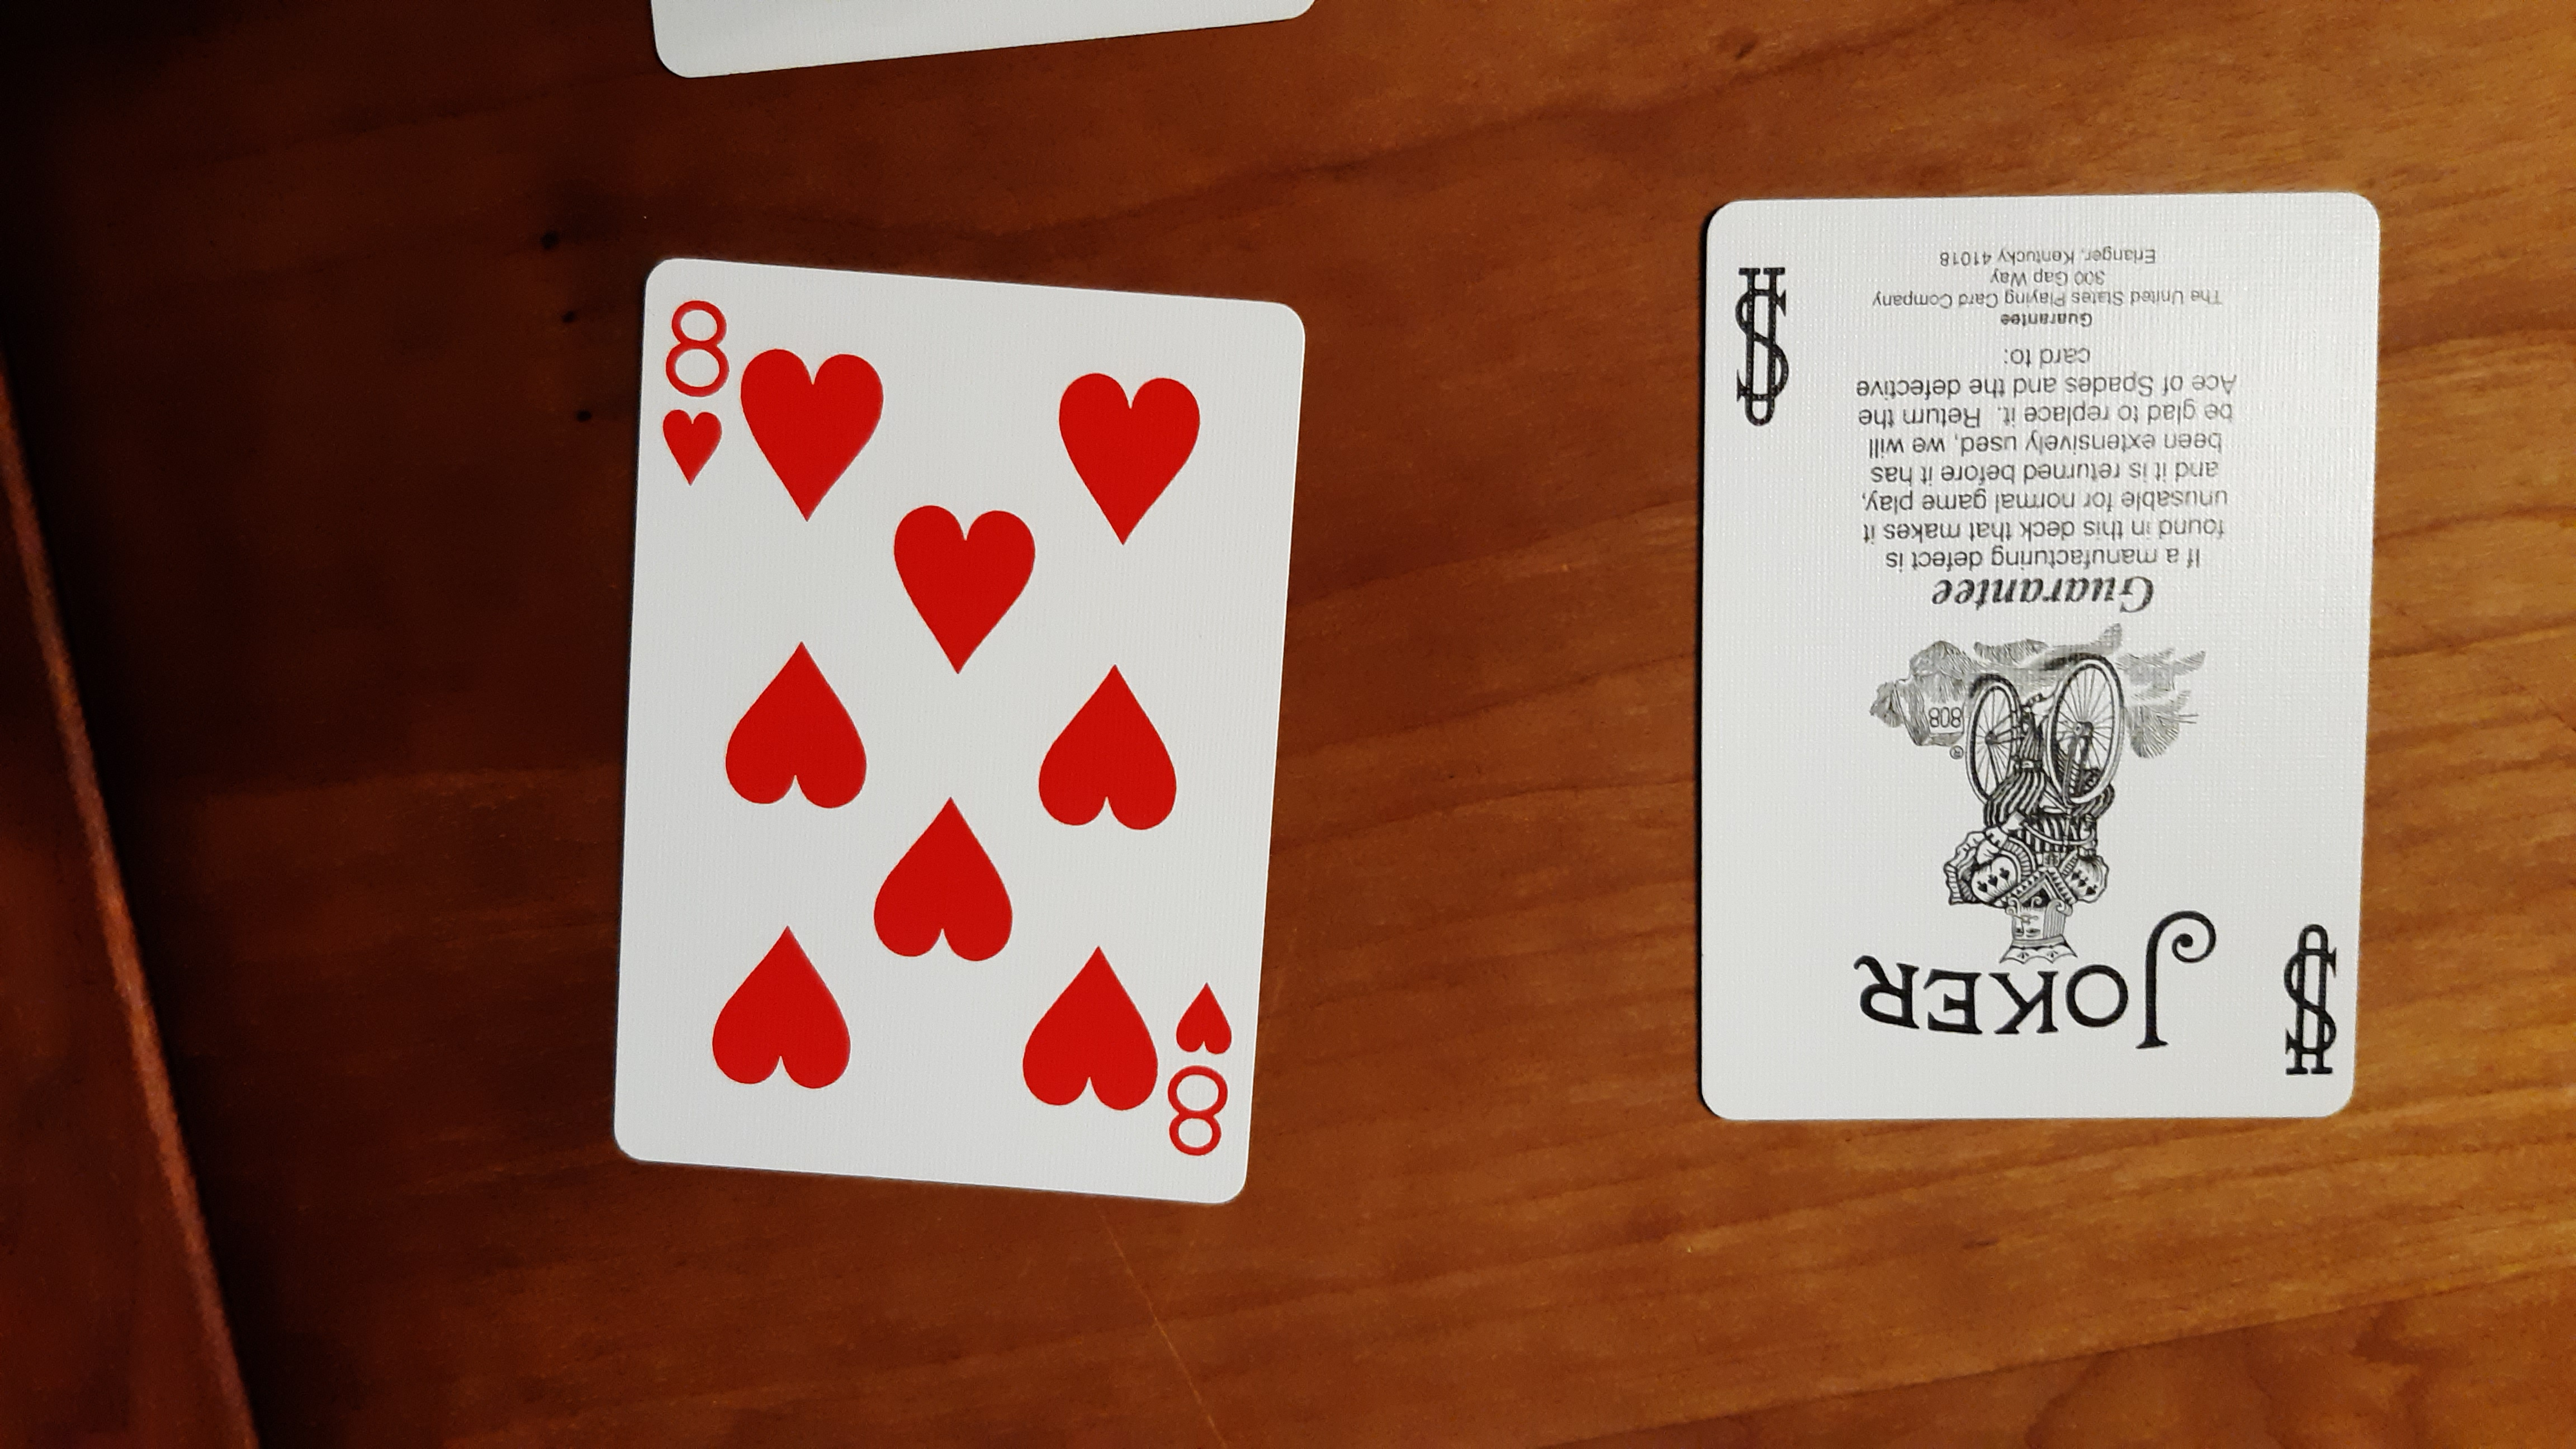Joker: (1813, 897, 2222, 1058)
Red_Heart_8: (653, 292, 734, 485), (1152, 978, 1235, 1162)
